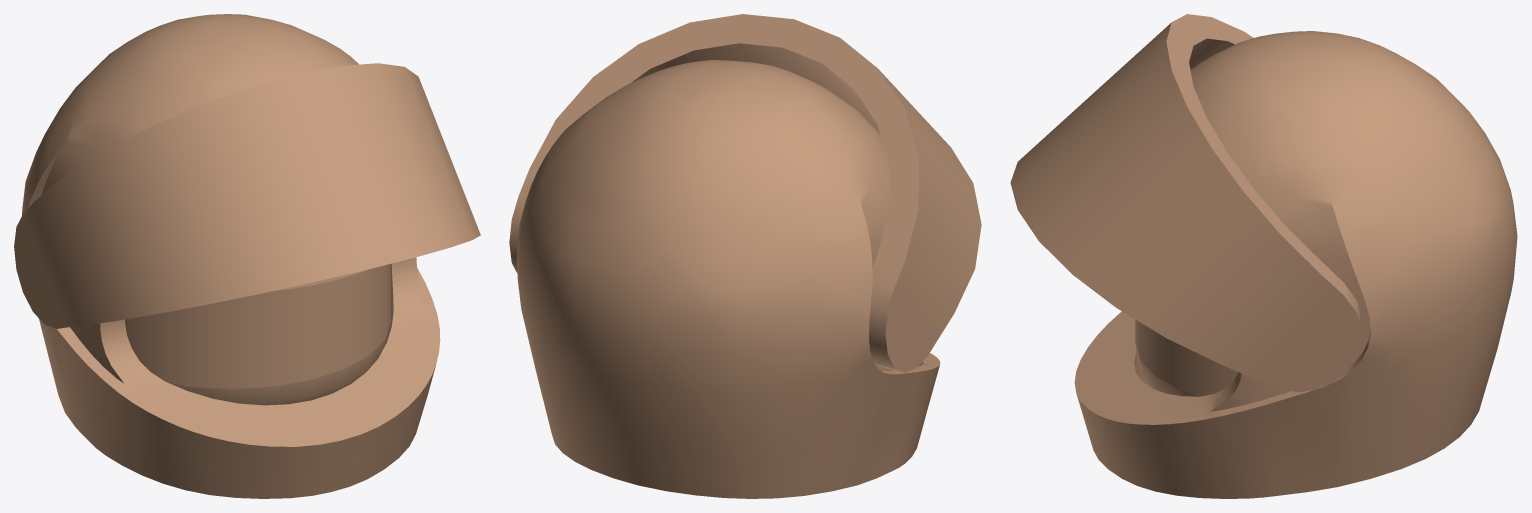
The model's file is head.obj.
The picture shows the model from 3 angles, left to right: view 1: azimuth 30°, elevation 25°; view 2: azimuth 150°, elevation 25°; view 3: azimuth 270°, elevation 25°; orthographic projection. The views are drawn at different scales.
Parts seen in each view (by area): view 1: polySurface327; view 2: polySurface327; view 3: polySurface327.
Boxes of the visible parts, x1,y1,x2,y2 form: polySurface327: (14,14,480,498); polySurface327: (509,14,981,498); polySurface327: (1010,14,1517,498).
Size of the model in its own units: 97.34 by 97.68 by 112.
